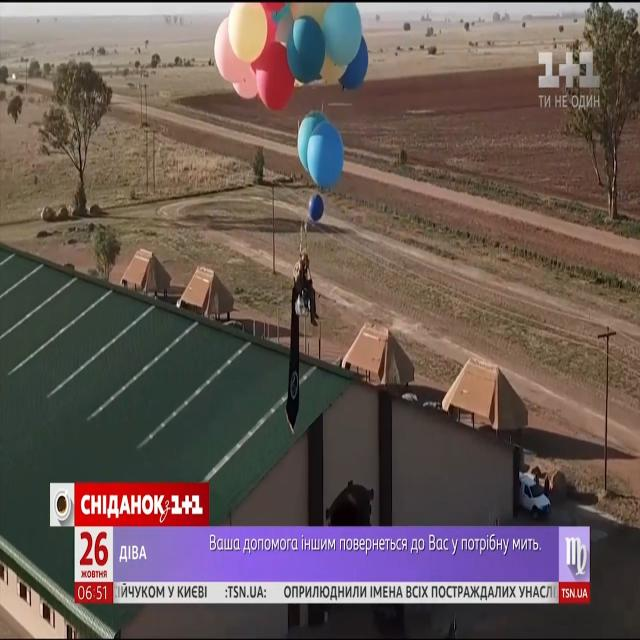balloon: (324, 1, 362, 66), (257, 44, 294, 110), (287, 22, 327, 80), (311, 124, 346, 190), (214, 18, 252, 78), (229, 0, 267, 57), (298, 110, 326, 176), (230, 66, 262, 102), (343, 42, 368, 86), (288, 0, 330, 18), (321, 56, 342, 84), (312, 194, 322, 218)
